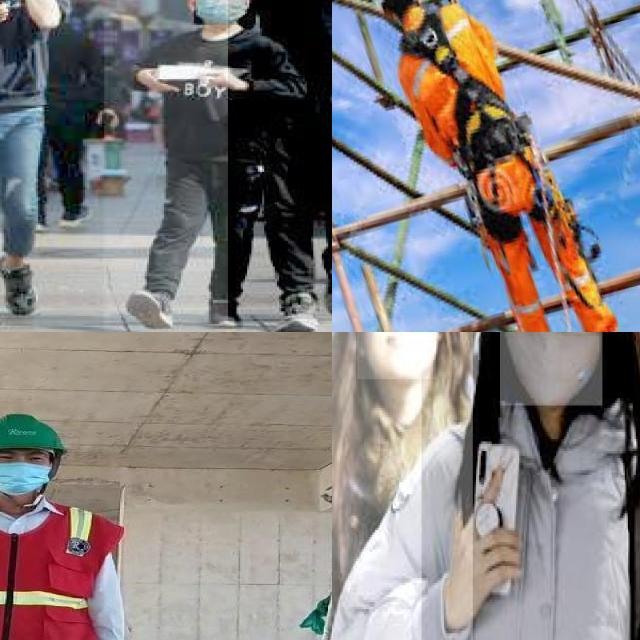Harness: (403, 13, 528, 178)
face_mask: (500, 332, 604, 408), (0, 457, 52, 498), (193, 0, 247, 25)
face_nomask: (357, 332, 437, 381)
hand_noglove: (435, 453, 533, 619)
person: (421, 332, 640, 640), (132, 0, 294, 332), (332, 332, 474, 640), (0, 0, 106, 332), (227, 0, 332, 321), (0, 412, 131, 640)
shoes: (111, 285, 184, 332), (0, 249, 44, 321), (263, 288, 322, 332), (203, 290, 246, 330), (314, 243, 332, 320)
